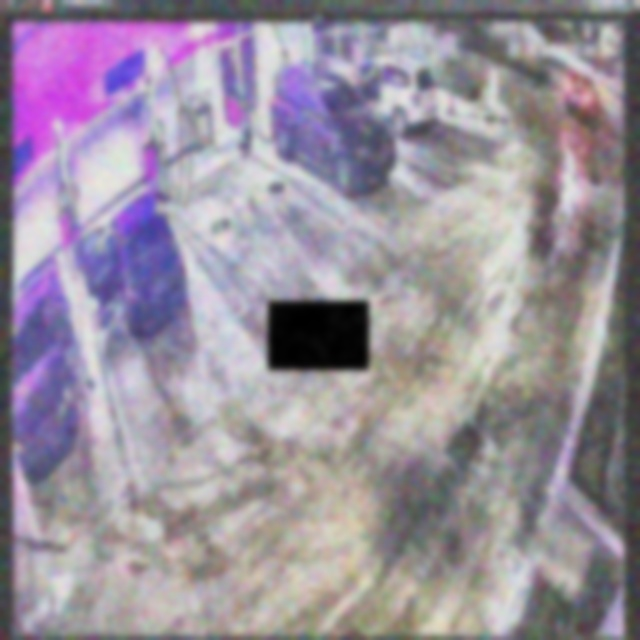Car: (77, 190, 188, 342), (270, 65, 394, 197)
